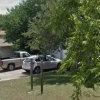Car: (19, 51, 74, 77)
